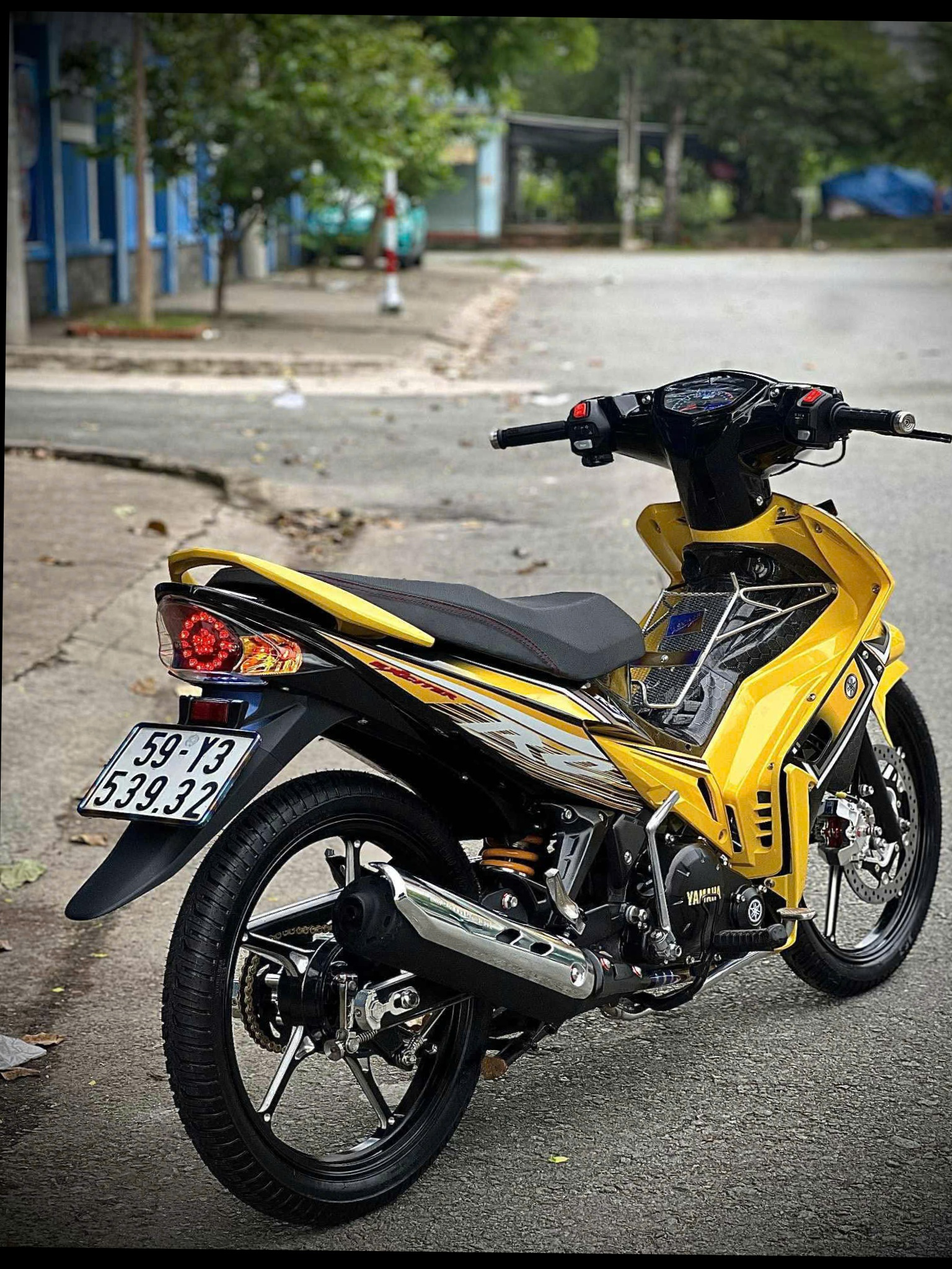Bien-so: (78, 722, 263, 826)
